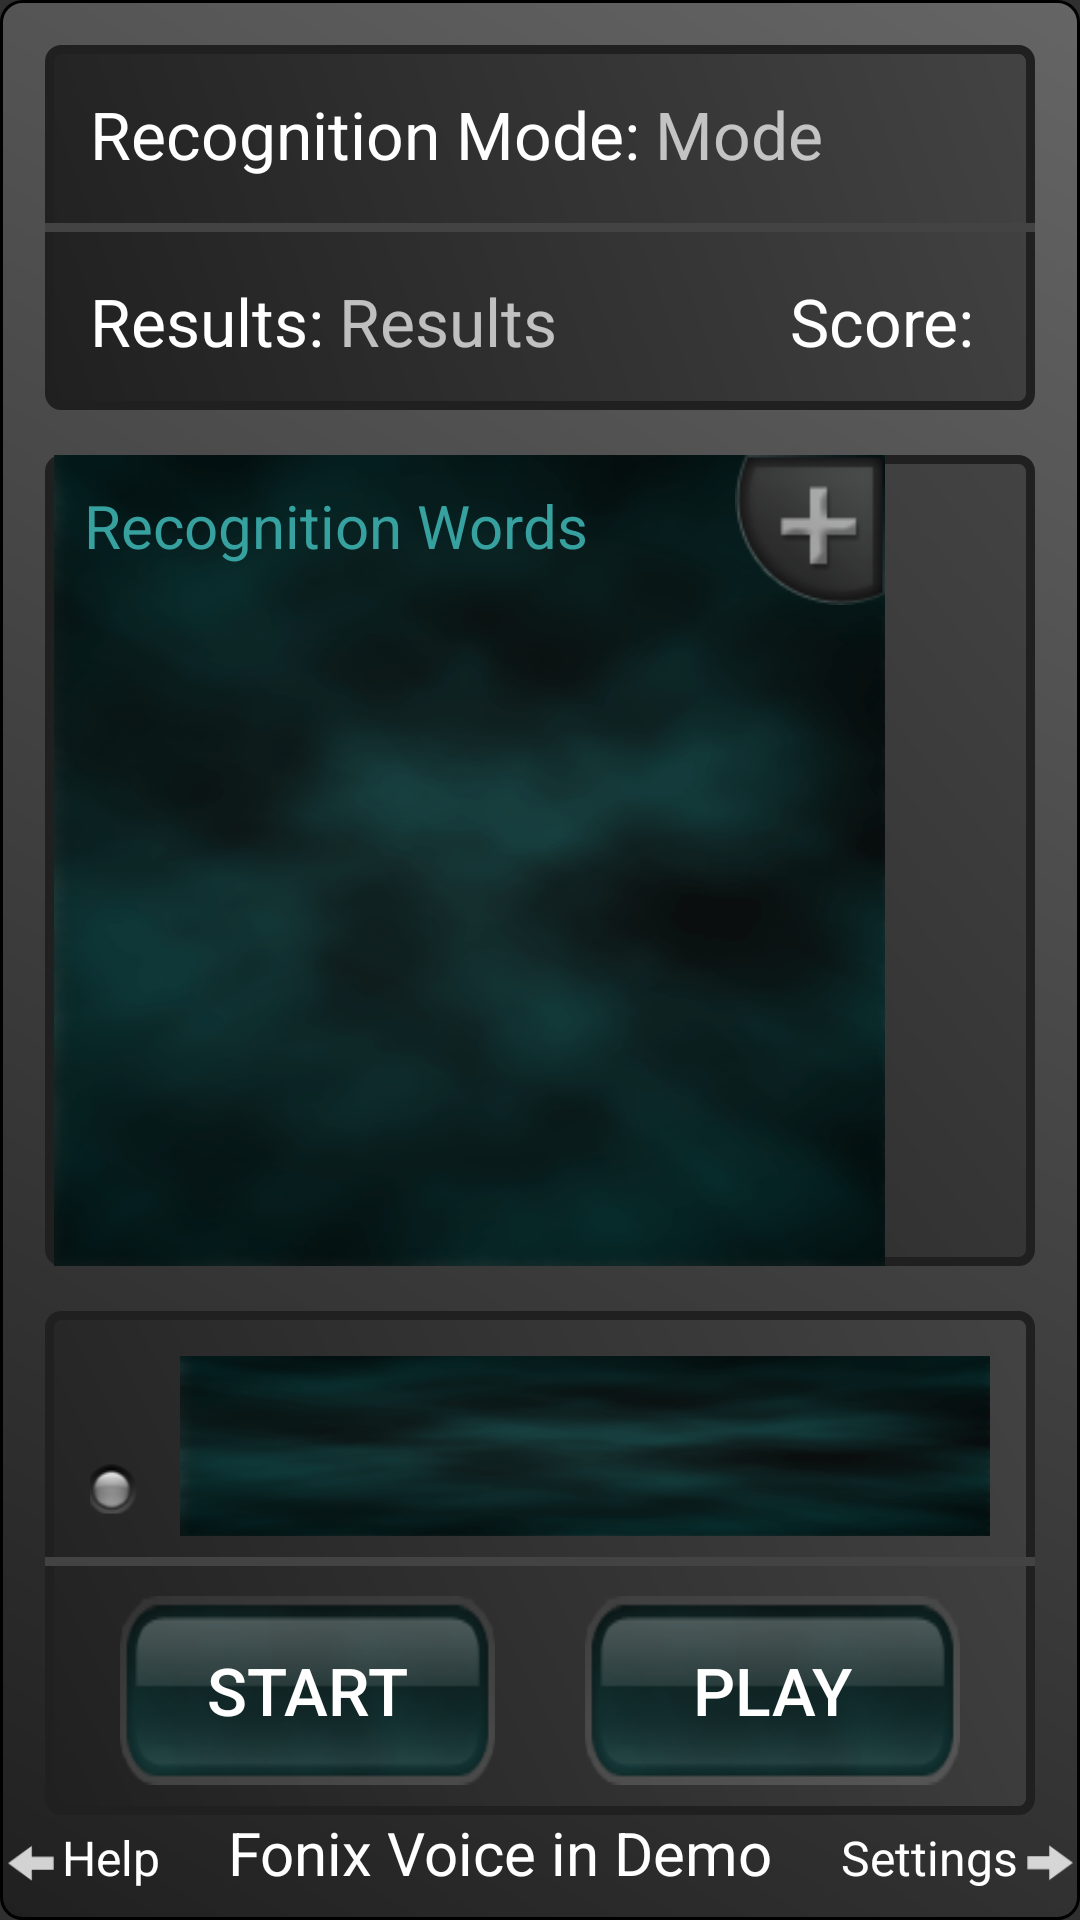

Icons on this 1080 × 1920 Android screen, each with the point to tap as point (x, y):
add: point (810, 530)
back arrow: point (31, 1863)
forward arrow: point (1050, 1862)
